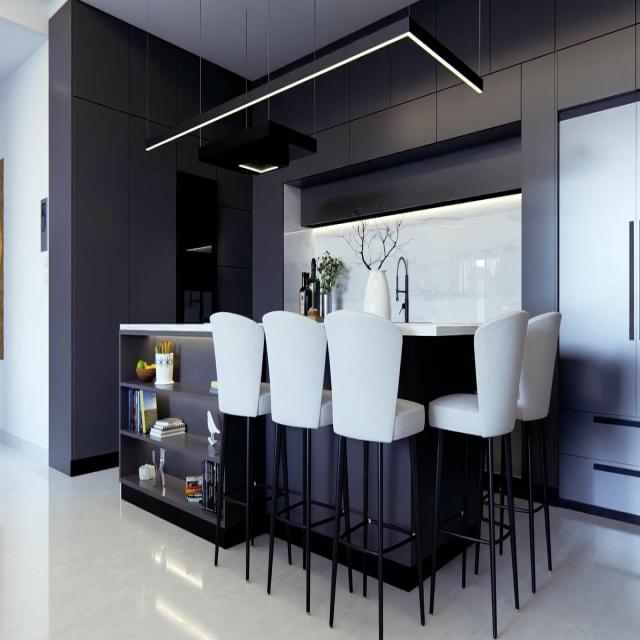obstacle: (556, 91, 640, 518), (323, 309, 425, 639), (428, 309, 530, 639), (261, 310, 353, 614), (473, 310, 562, 594), (209, 310, 291, 582)
